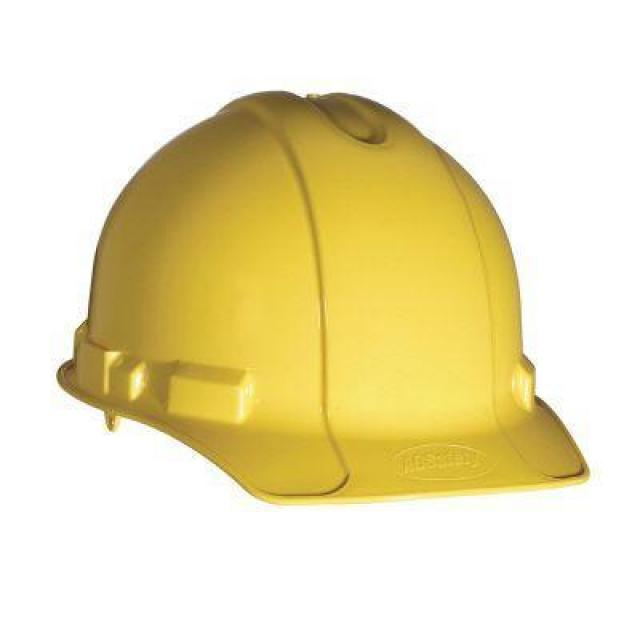Safety-Helmet: (53, 69, 568, 510)
